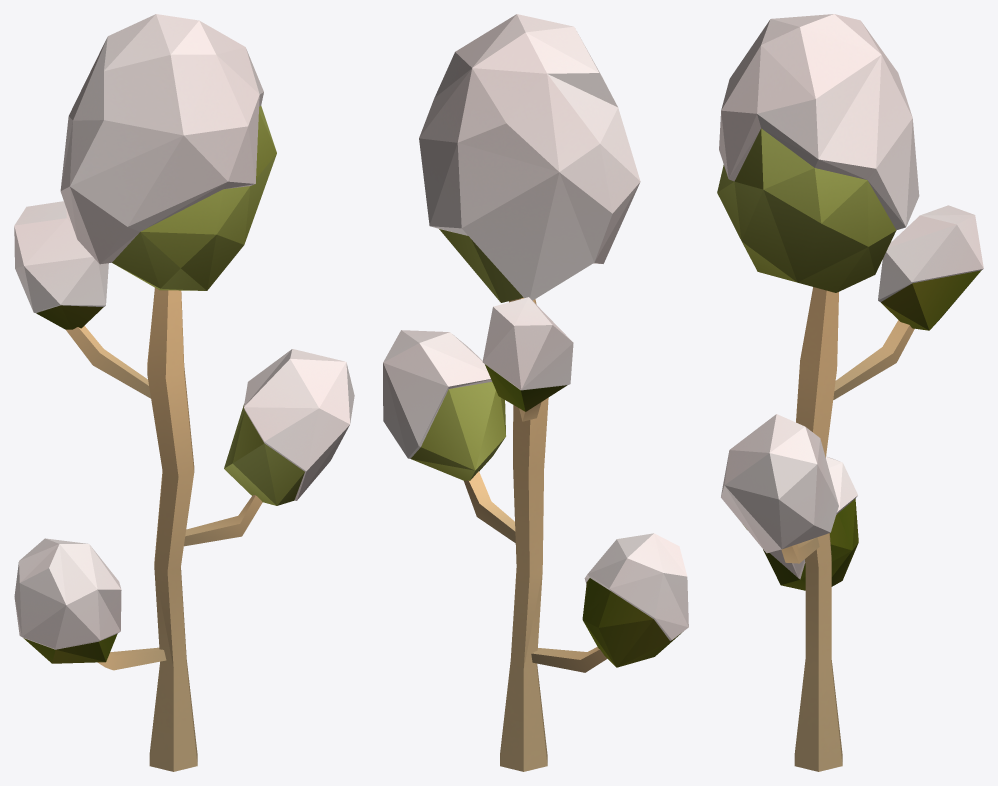
File: Tree_1A.fbx
The picture shows the model from 3 angles, left to right: view 1: azimuth 30°, elevation 25°; view 2: azimuth 150°, elevation 25°; view 3: azimuth 270°, elevation 25°; orthographic projection.
Visible parts, largest first — view 1: polySurface35; view 2: polySurface35; view 3: polySurface35.
Boxes of the visible parts, box(x1,y1,x2,y2) form: polySurface35: box(14, 14, 354, 771); polySurface35: box(383, 14, 688, 771); polySurface35: box(717, 14, 983, 771).
Bounding box in the file's own units: 3.42 × 7.57 × 2.47.
1 material, 1 textured.
